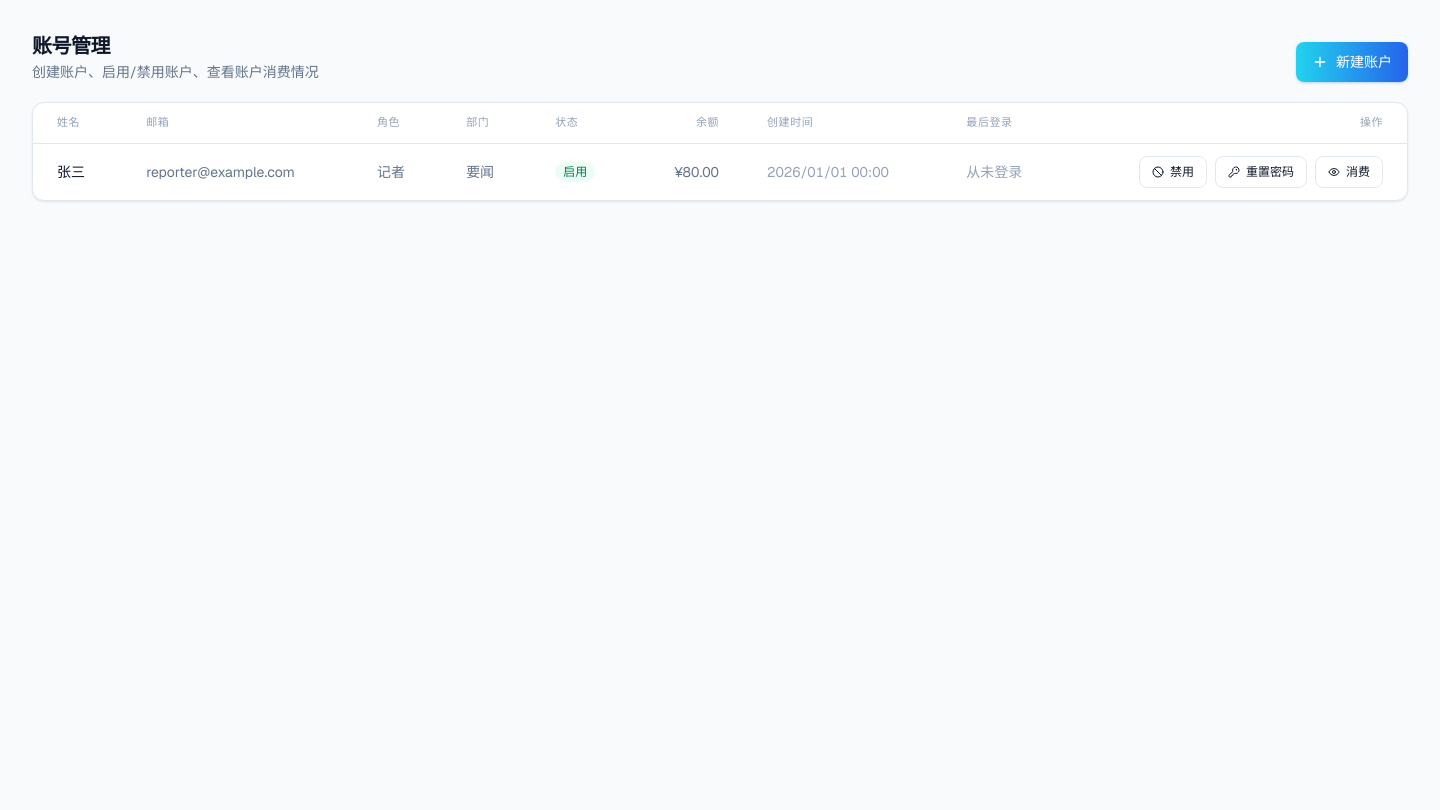
it: AccountsPage › opens the consumption drawer with summary data
Check: the text "张三" is shown, box [33,143,122,200]
What coordinates should you click on to do the following:
click the button "消费"
I would click on:
 (1349, 172)
Its box is [1315,156,1383,188].
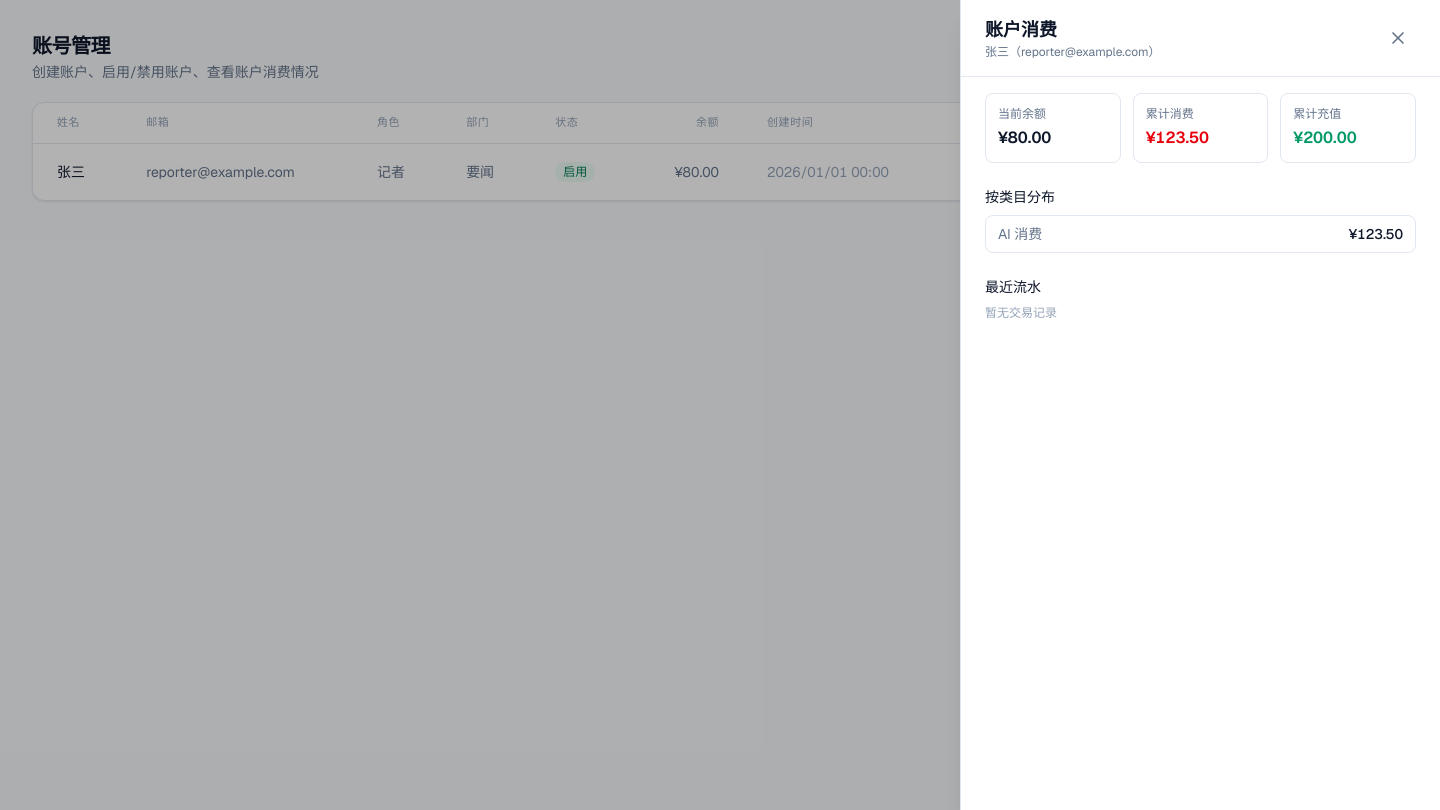
Check: the heading "账户消费" is shown, box [985,18,1057,41]
Check: the text "¥123.50" below "累计消费" is shown, box [1146,127,1209,148]
Check: the text "AI 消费" is shown, box [998,224,1042,244]
